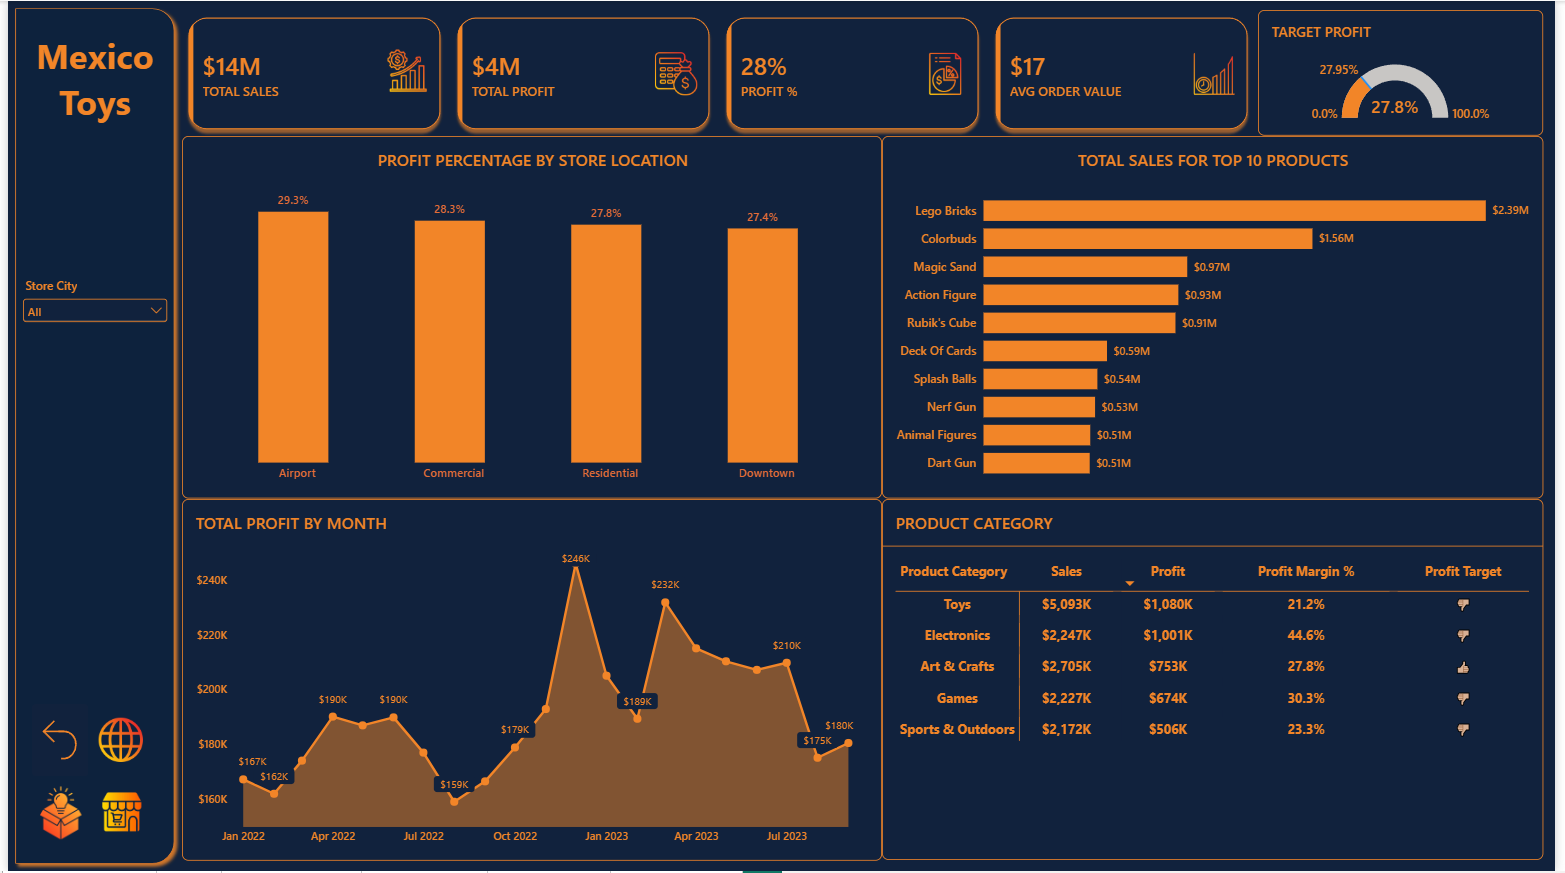

The page's visual inventory and layout, read from the dashboard file:
{"tool":"powerbi","page":{"name":"Executive Dashboard","canvas":[1920,1080],"ordinal":0},"visuals":[{"type":"shape","box":[0,0,215.7,1080],"z":0},{"type":"textbox","box":[31.6,38.2,154.1,143.6],"z":1000},{"type":"cardVisual","fields":{"Data":["Measures Table.Total Sales","Measures Table.Gross Profit","Measures Table.Total Profit %","Measures Table.Average Order Value"]},"box":[216,12.4,1334.5,155.2],"z":2000},{"type":"lineChart","title":"TOTAL PROFIT BY MONTH","fields":{"Category":["calendar.Start of month"],"Y":["Measures Table.Total Profit"]},"box":[216,617.7,869.3,449.1],"z":3000},{"type":"barChart","title":"TOTAL SALES FOR TOP 10 PRODUCTS","fields":{"Category":["products.Product_Name"],"Y":["Measures Table.Total Sales"]},"box":[1085.3,167.3,820.5,450.4],"z":4000},{"type":"clusteredColumnChart","title":"PROFIT PERCENTAGE BY STORE LOCATION","fields":{"Category":["stores.Store_Location"],"Y":["Measures Table.Total Profit %"]},"box":[216,167.3,869.3,450.4],"z":5000},{"type":"gauge","title":"TARGET PROFIT","fields":{"TargetValue":["Measures Table.Prev month profit % Target"],"Y":["Measures Table.Profit Margin %"]},"box":[1551.4,11.4,354.3,155.7],"z":6000},{"type":"slicer","fields":{"Values":["stores.Store_City"]},"box":[13.2,342.4,188.6,100],"z":7000},{"type":"pivotTable","title":"PRODUCT CATEGORY","fields":{"Rows":["products.Product_Category"],"Values":["Measures Table.Total Sales","Measures Table.Total Profit","Measures Table.Total Profit %","Measures Table.Profit Target"]},"box":[1085.3,617.7,820.5,447.8],"z":8000},{"type":"actionButton","title":"Filter reset","box":[30.3,873.2,69.8,89.6],"z":9000},{"type":"image","title":"Map page","box":[105.4,873.2,69.8,88.2],"z":10000},{"type":"image","title":"Store page","box":[106.7,961.5,69,89],"z":11000},{"type":"image","title":"Product page","box":[31.6,962.8,69,89],"z":12000}]}

Visuals, with their boxes in screenshot pixels (x1, y1, x2, y2), scaled from the page's 1920x1080 canvas onto the 1565x873 screenshot:
shape: Rect(0, 0, 176, 872)
textbox: Rect(26, 31, 151, 147)
cardVisual - Measures Table.Total Sales x Measures Table.Gross Profit: Rect(176, 10, 1264, 135)
"TOTAL PROFIT BY MONTH" lineChart: Rect(176, 499, 885, 862)
"TOTAL SALES FOR TOP 10 PRODUCTS" barChart: Rect(885, 135, 1553, 499)
"PROFIT PERCENTAGE BY STORE LOCATION" clusteredColumnChart: Rect(176, 135, 885, 499)
"TARGET PROFIT" gauge: Rect(1265, 9, 1553, 135)
slicer - stores.Store_City: Rect(11, 277, 164, 358)
"PRODUCT CATEGORY" pivotTable: Rect(885, 499, 1553, 861)
"Filter reset" actionButton: Rect(25, 706, 82, 778)
"Map page" image: Rect(86, 706, 143, 777)
"Store page" image: Rect(87, 777, 143, 849)
"Product page" image: Rect(26, 778, 82, 850)
